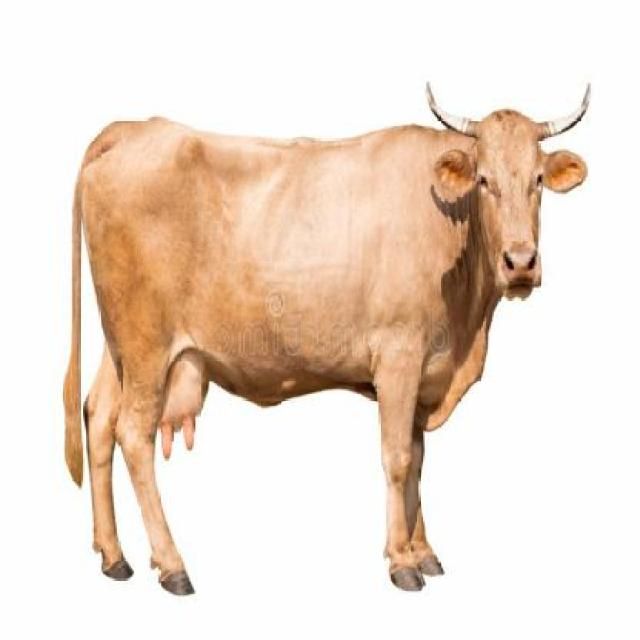Cow: (55, 74, 594, 603)
